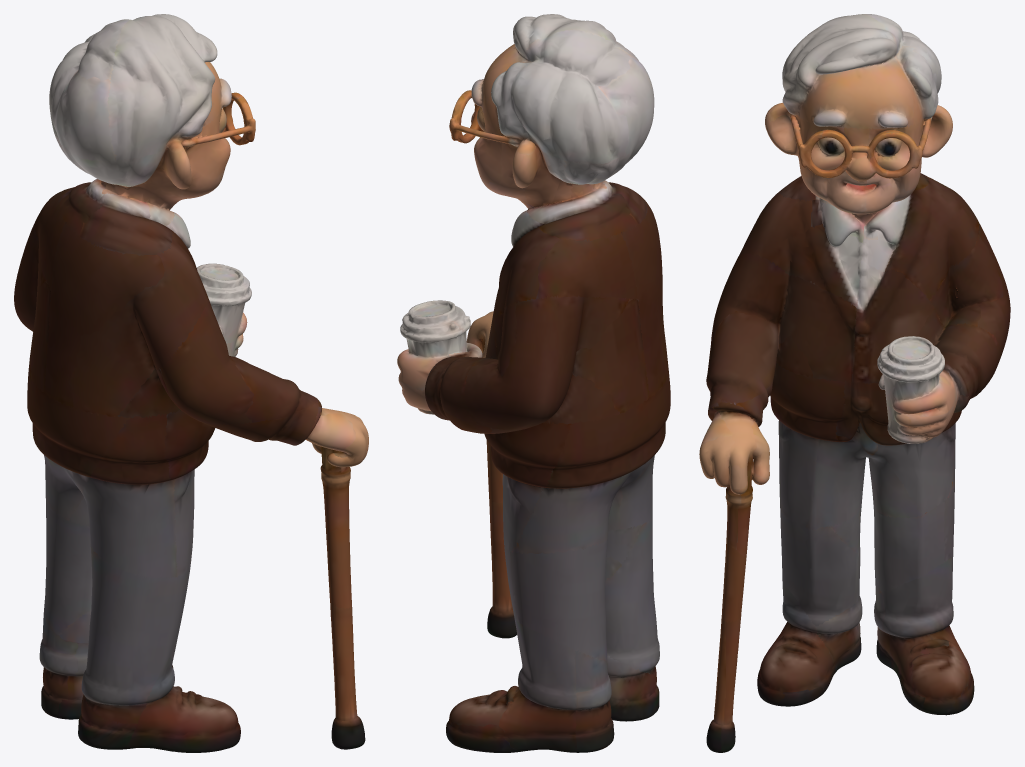
The model's file is audience-06.glb.
3 views of the same model, side by side, from view 1: azimuth 30°, elevation 25°; view 2: azimuth 150°, elevation 25°; view 3: azimuth 270°, elevation 25° (orthographic). The views are drawn at different scales.
Visible parts, largest first — view 1: tripo_node_3e03bdcd-473e-4a7a-92d7-c0a1f1673ea3; view 2: tripo_node_3e03bdcd-473e-4a7a-92d7-c0a1f1673ea3; view 3: tripo_node_3e03bdcd-473e-4a7a-92d7-c0a1f1673ea3.
Part boxes in pixels (bbox=[...]): tripo_node_3e03bdcd-473e-4a7a-92d7-c0a1f1673ea3: bbox=[14, 14, 368, 752]; tripo_node_3e03bdcd-473e-4a7a-92d7-c0a1f1673ea3: bbox=[397, 14, 670, 752]; tripo_node_3e03bdcd-473e-4a7a-92d7-c0a1f1673ea3: bbox=[699, 14, 1010, 752].
Bounding box in the file's own units: 0.645 × 1.7 × 0.7195.
Materials: 1 (1 with a texture image).
